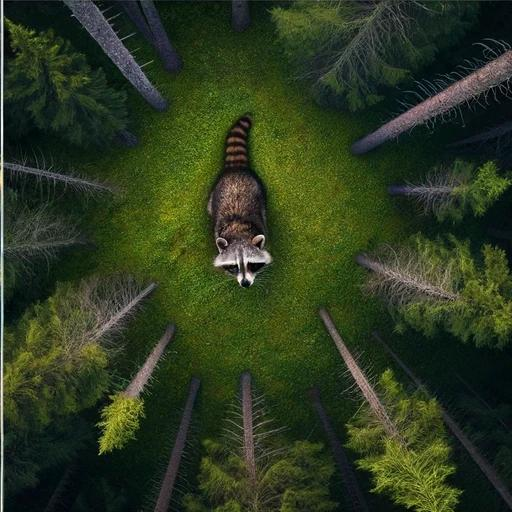raccoon: (200, 107, 282, 293)
